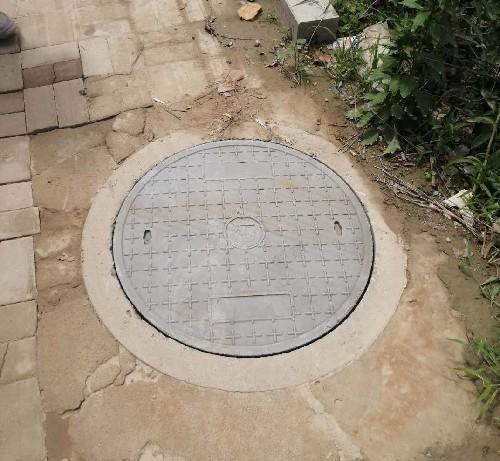good: (78, 123, 420, 400)
